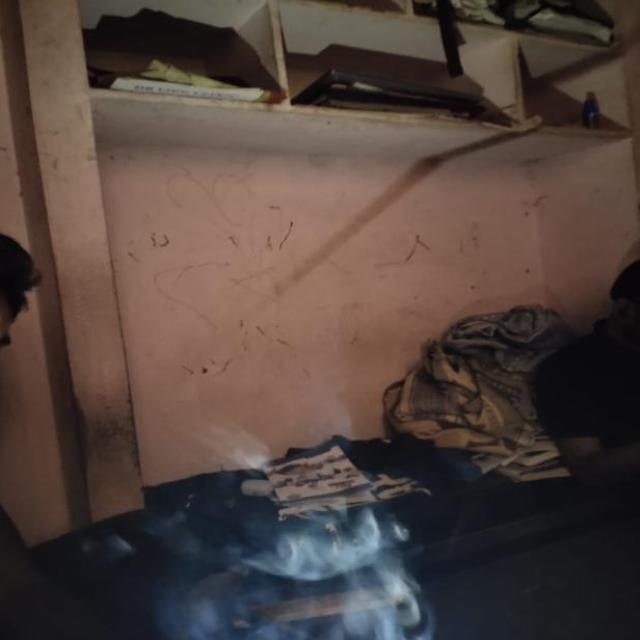fire: (194, 503, 444, 640)
